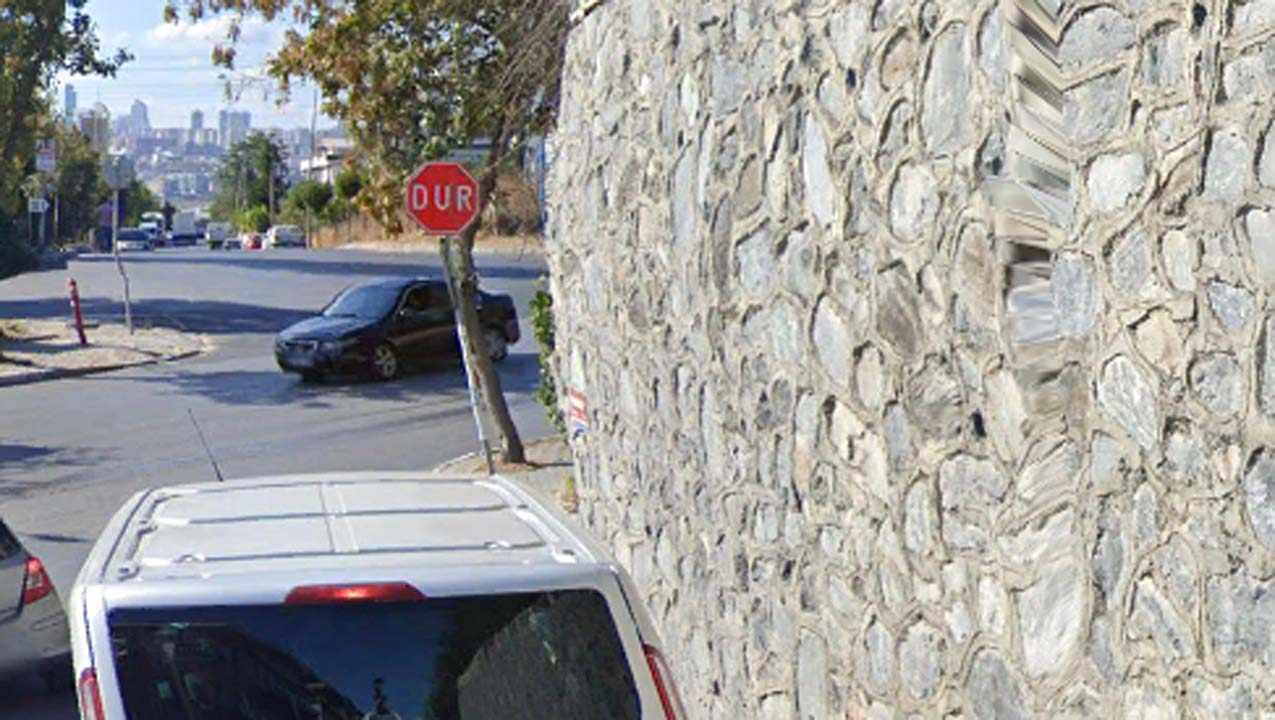arac_dur_isareti: (347, 85, 538, 346)
